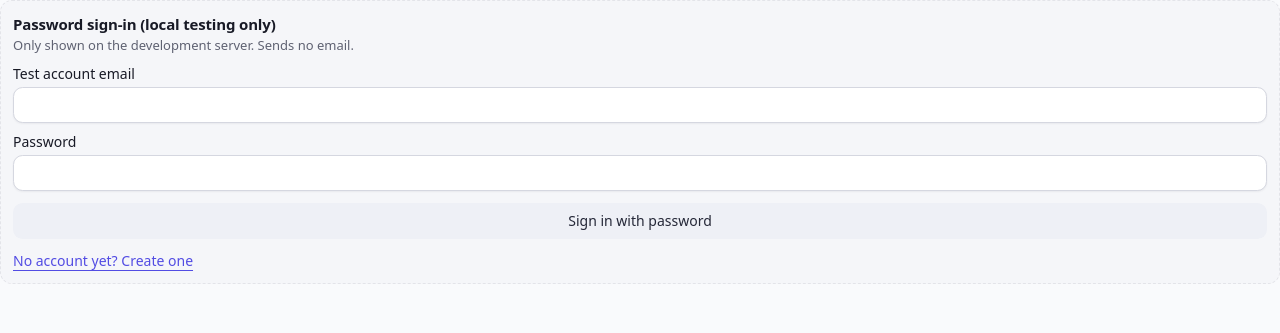
DevPasswordSignIn › shows a clear message for wrong credentials
In the field labelled "Test account email": (640,105) x1=13 y1=87 x2=1267 y2=123, type "alice@example.com"
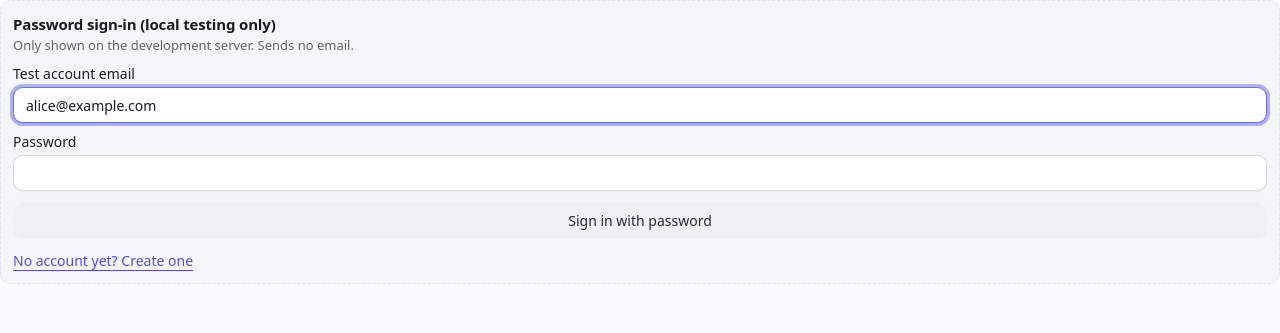
In the password field labelled "Password": (640,173) x1=13 y1=155 x2=1267 y2=191, type "secret123"
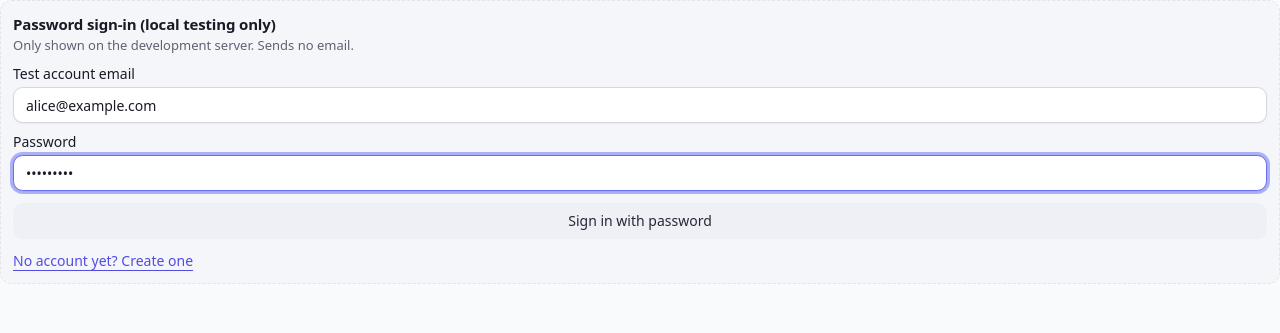
Click the button "Sign in with password": (640,221) x1=13 y1=203 x2=1267 y2=239
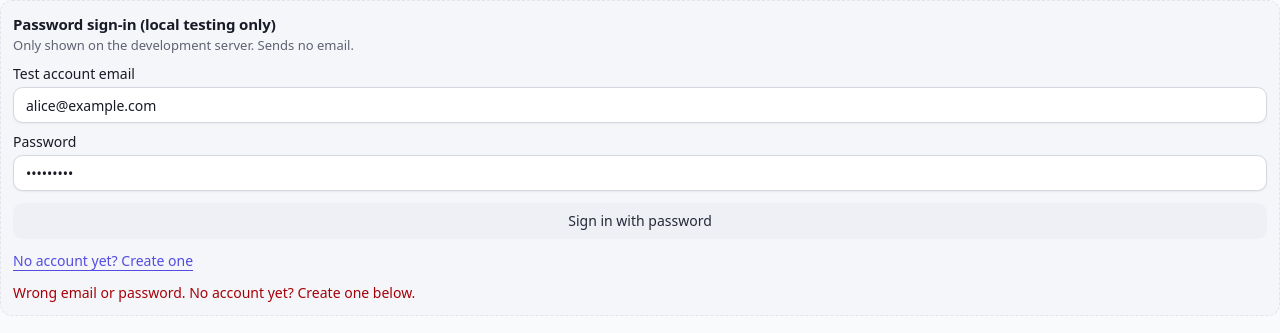
Check: the message shows "Wrong email or password", box x1=13 y1=283 x2=415 y2=302
